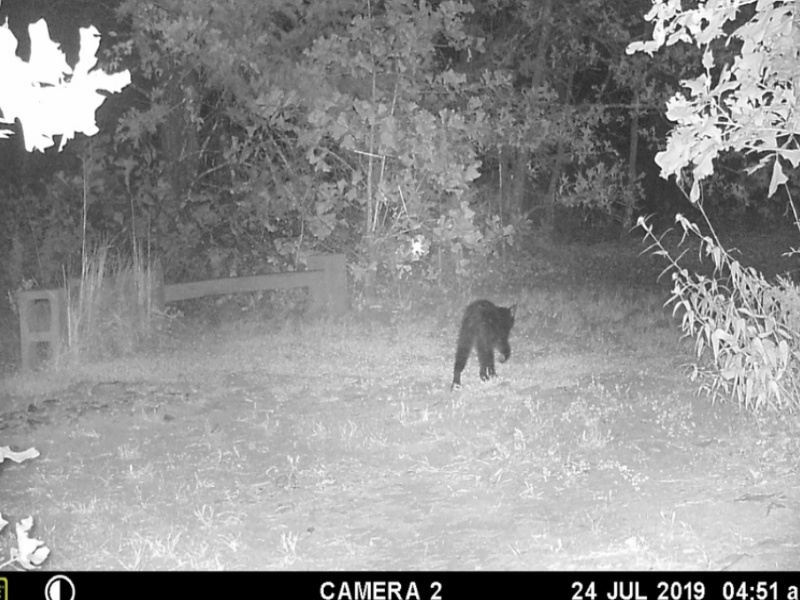cat: (449, 297, 518, 391)
